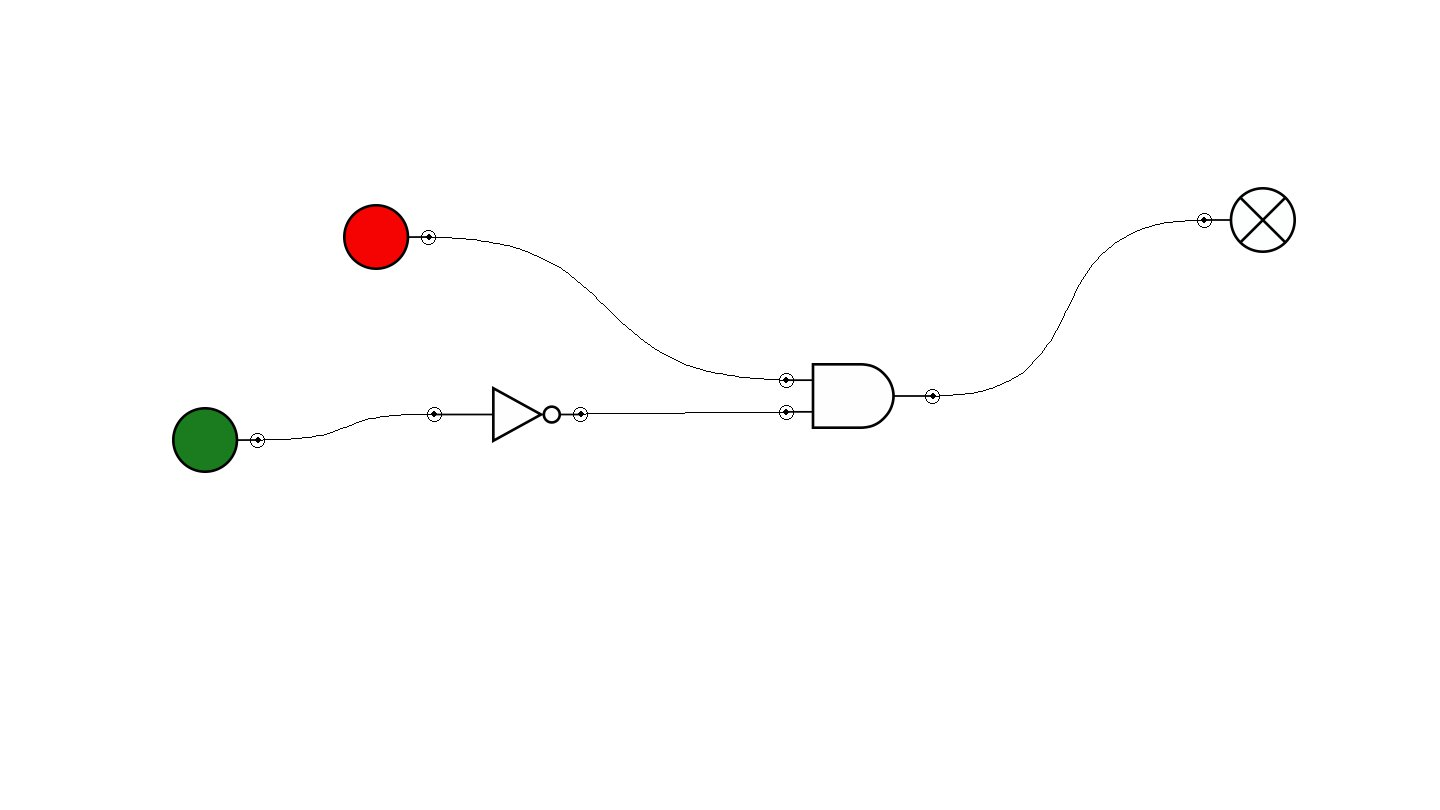and: (779, 363, 940, 429)
bulb: (1197, 187, 1296, 253)
not: (427, 386, 588, 443)
switch_False: (343, 204, 436, 270)
switch_True: (172, 407, 265, 473)
